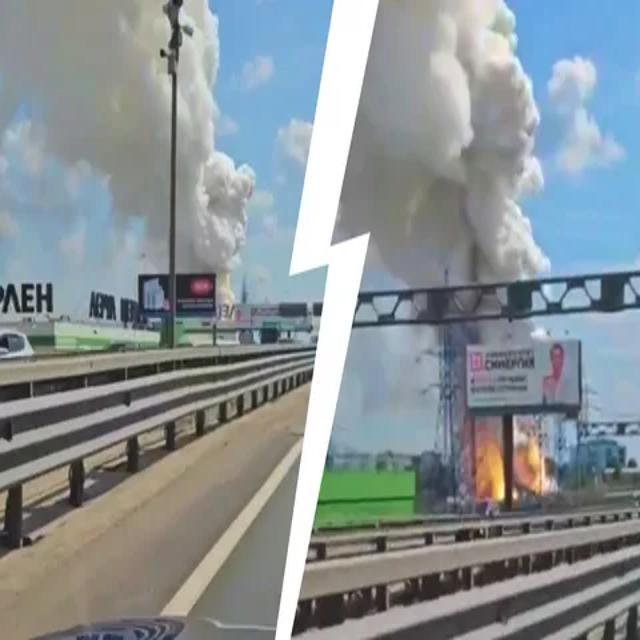Smoke: (368, 0, 558, 492), (1, 2, 258, 303)
